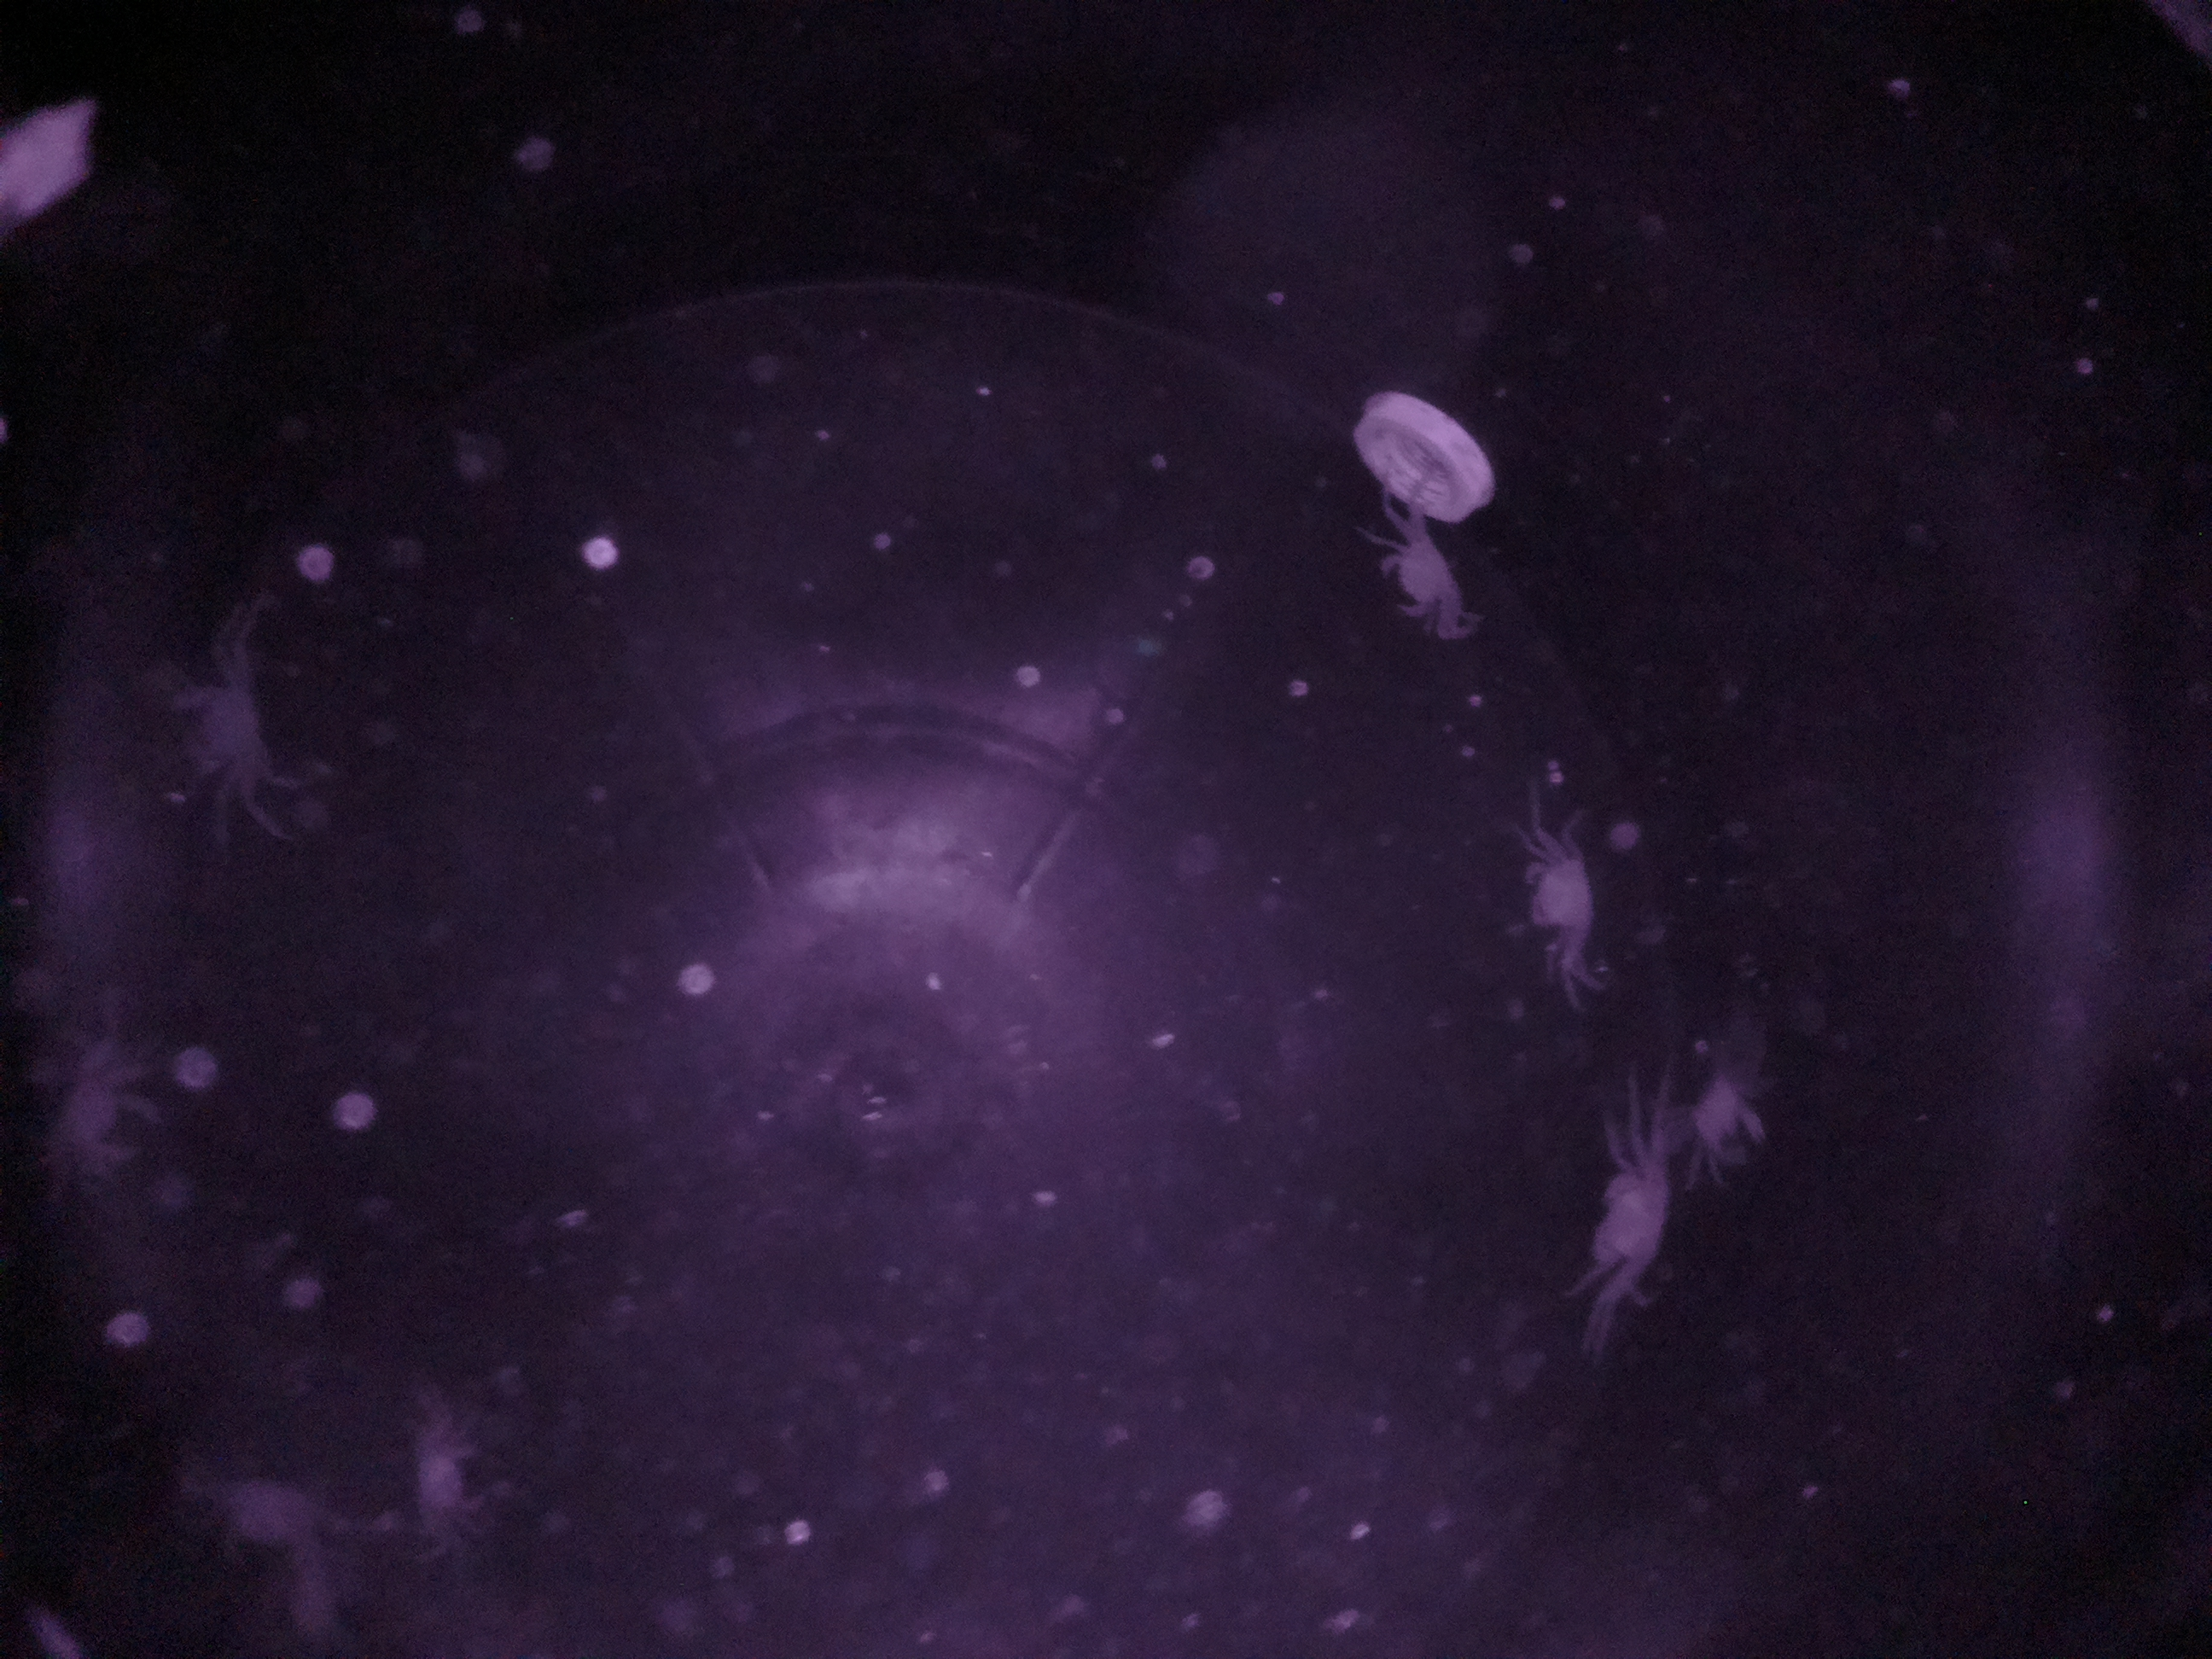Crab: (1568, 1143, 1684, 1305), (1512, 829, 1627, 967), (1367, 509, 1477, 638)
